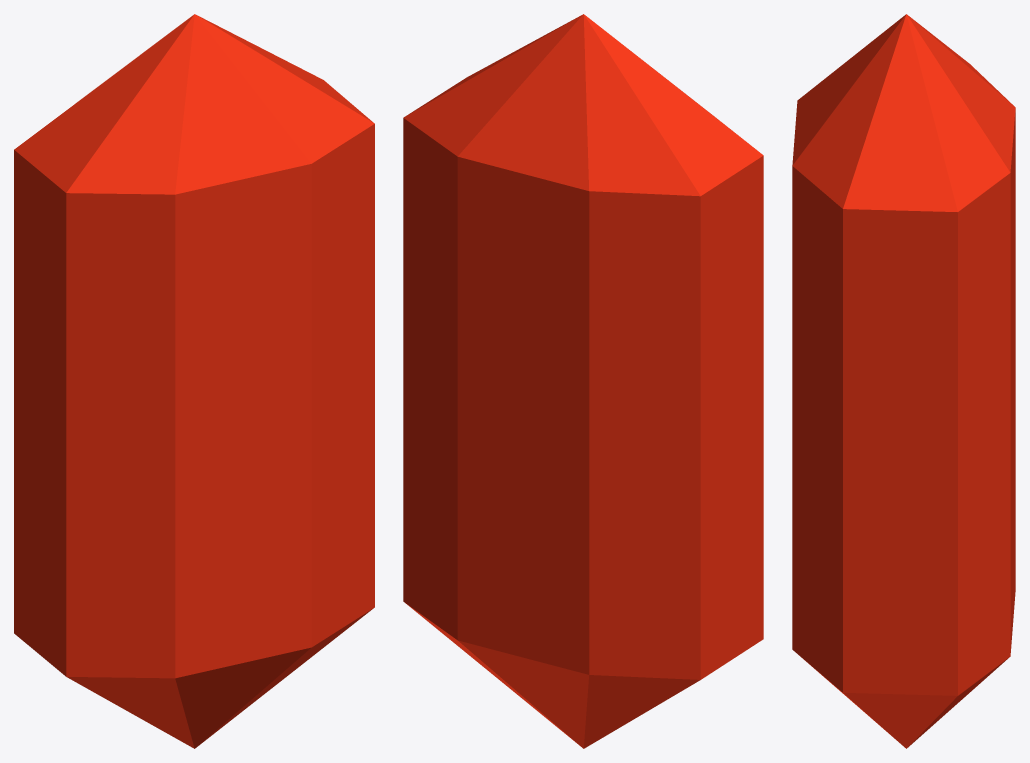
The model's file is red_crystal.glb.
3 views of the same model, side by side, from view 1: azimuth 30°, elevation 25°; view 2: azimuth 150°, elevation 25°; view 3: azimuth 270°, elevation 25° (orthographic).
Parts seen in each view (by area): view 1: PP_Crystal_01_Red; view 2: PP_Crystal_01_Red; view 3: PP_Crystal_01_Red.
Part boxes in pixels (x1,y1,x2,y2): PP_Crystal_01_Red: (14, 14, 374, 748); PP_Crystal_01_Red: (403, 14, 763, 748); PP_Crystal_01_Red: (792, 14, 1015, 748).
Bounding box in the file's own units: 2.82 × 6.4 × 1.76.
Materials: 1 (1 with a texture image).
